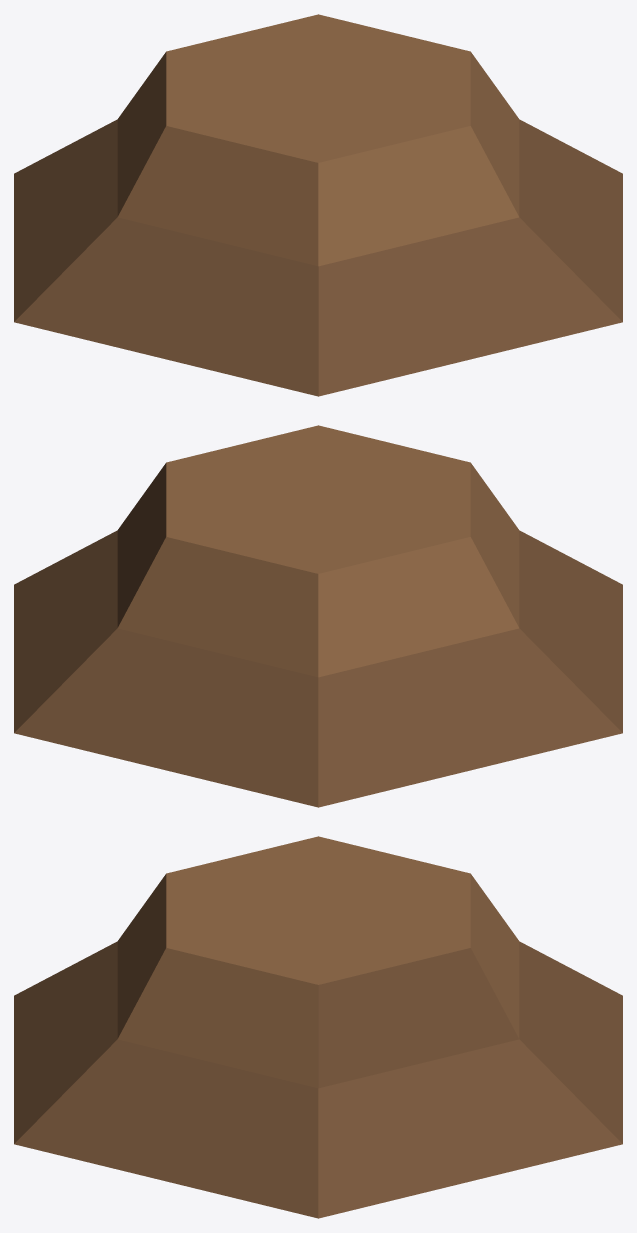
File: crops_dirtSingle.glb
3 views of the same model, one above another, from view 1: azimuth 30°, elevation 25°; view 2: azimuth 150°, elevation 25°; view 3: azimuth 270°, elevation 25° (orthographic).
Parts seen in each view (by area): view 1: crops_dirtSingle; view 2: crops_dirtSingle; view 3: crops_dirtSingle.
Part boxes in pixels (x1,y1,x2,y2): crops_dirtSingle: [14, 14, 622, 396]; crops_dirtSingle: [14, 425, 622, 807]; crops_dirtSingle: [14, 836, 622, 1218].
Size of the model in its own units: 0.4 by 0.1 by 0.3464.
